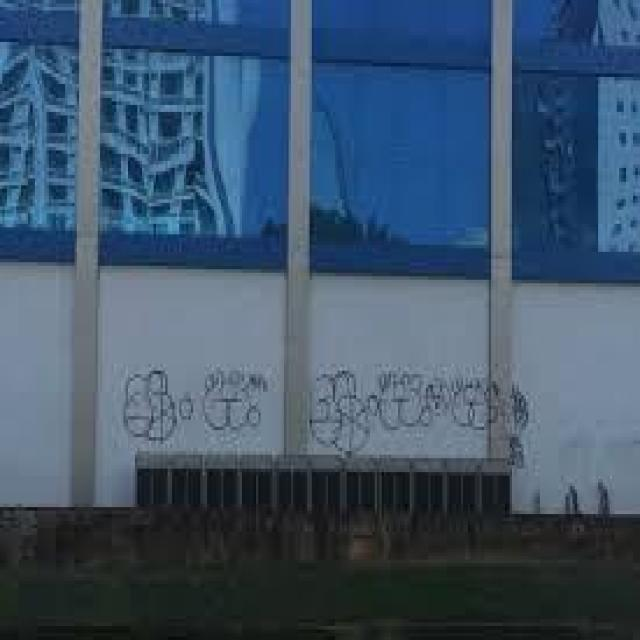nonspitting: (307, 360, 528, 462), (121, 364, 271, 442)
